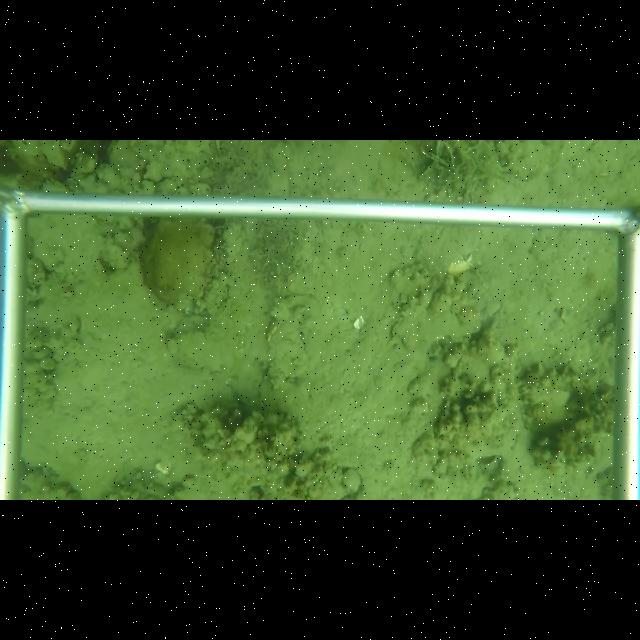Oyster-Closed: (137, 220, 216, 312), (267, 310, 313, 381), (269, 294, 326, 322)
